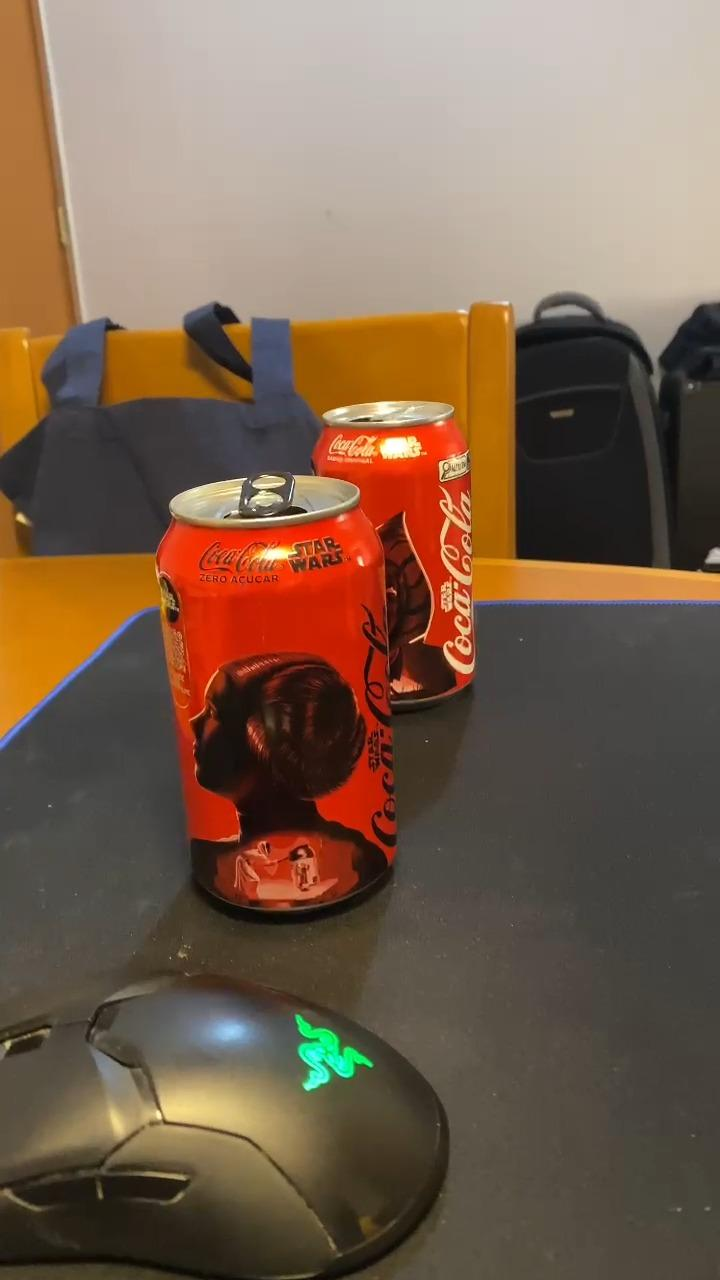coke: (153, 481, 394, 905), (310, 400, 474, 701)
